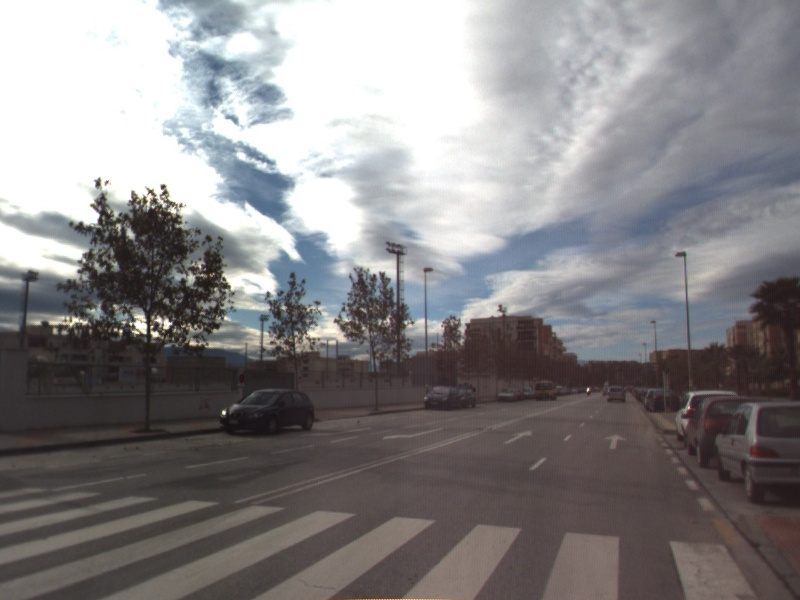STRAIGHT: (501, 428, 535, 446), (602, 432, 629, 451)
